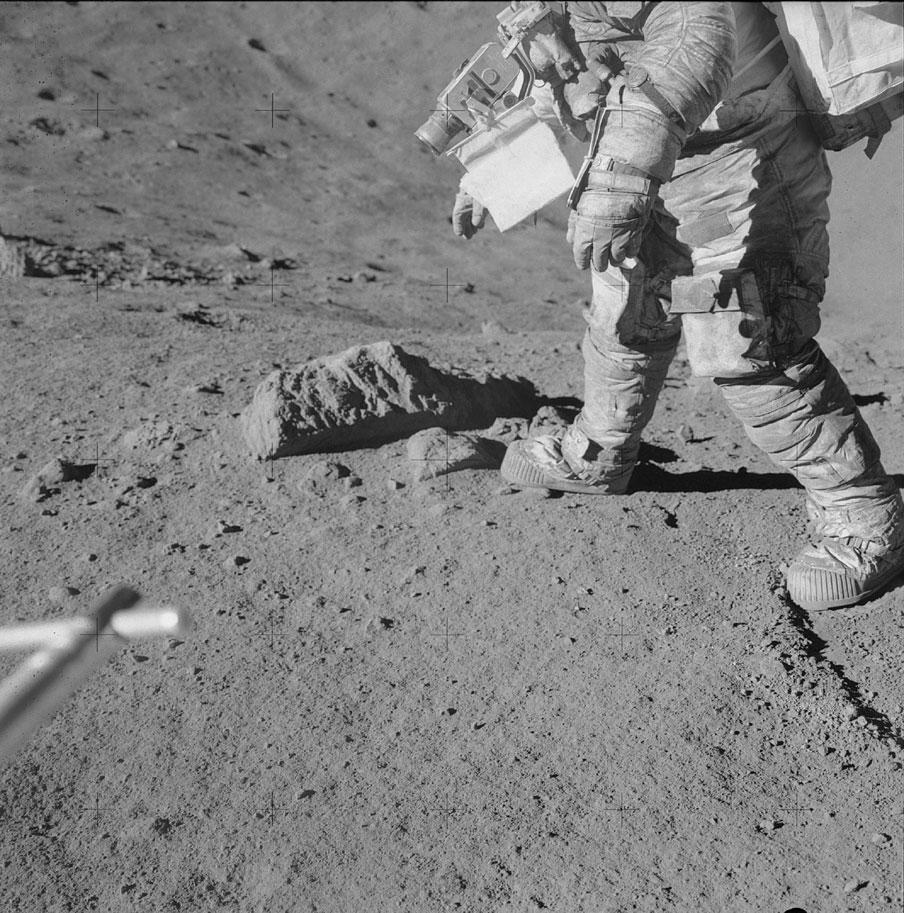rock: (241, 341, 477, 459)
